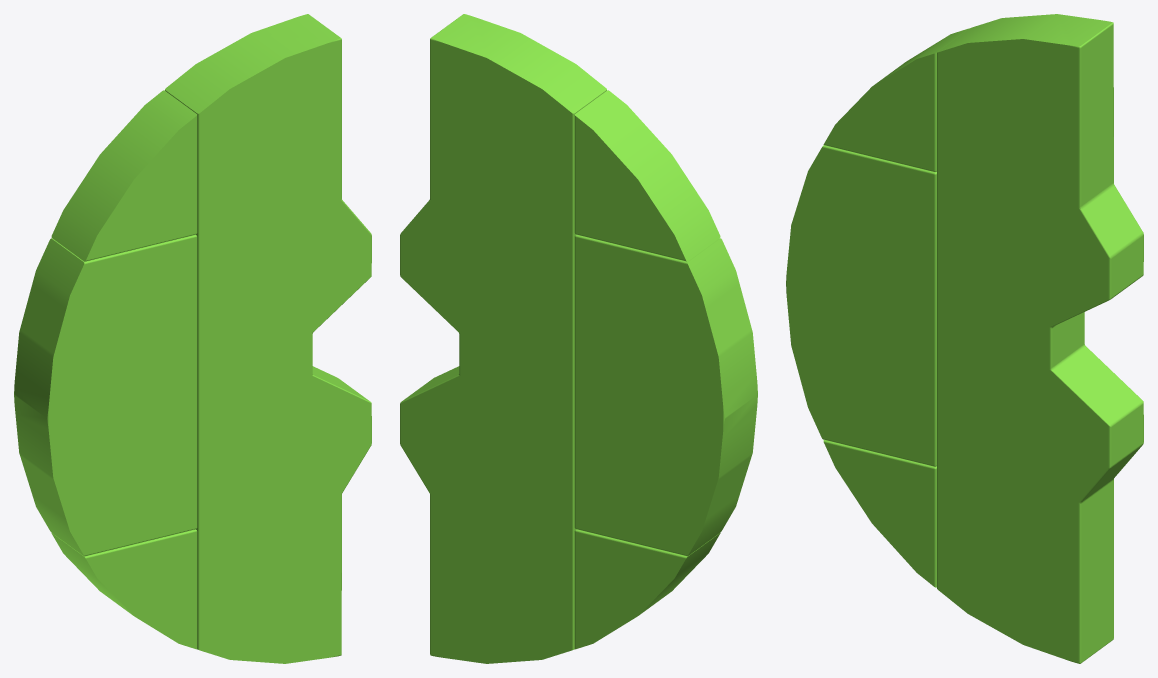
File: L-Door.glb
3 renders of one model, left to right at view 1: azimuth 30°, elevation 25°; view 2: azimuth 150°, elevation 25°; view 3: azimuth 330°, elevation 25°, orthographic.
Visible parts, largest first — view 1: 左扉; view 2: 左扉; view 3: 左扉.
Boxes of the visible parts, left/top/right/bottom form: 左扉: left=14, top=14, right=371, bottom=663; 左扉: left=400, top=14, right=757, bottom=663; 左扉: left=786, top=14, right=1143, bottom=663.
Bounding box in the file's own units: 1.1 × 2 × 0.2.
